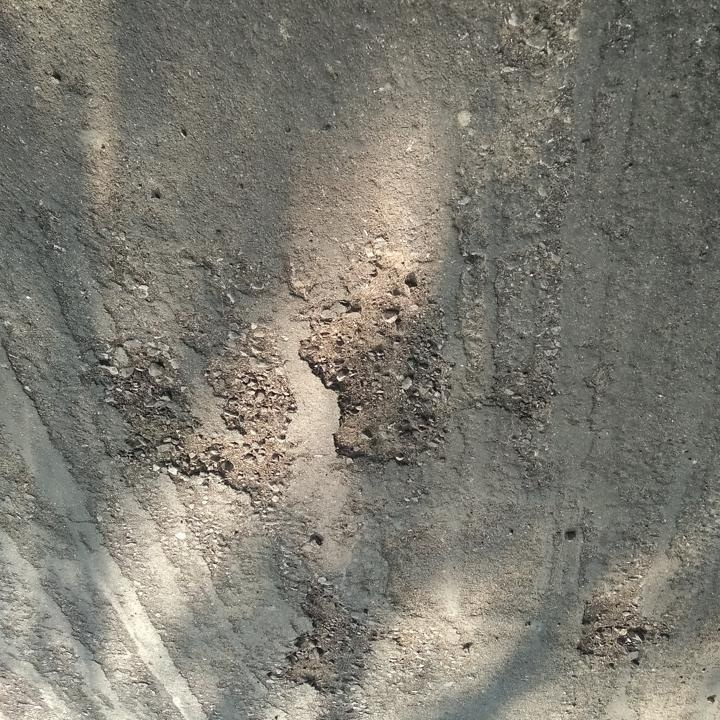pothole: (293, 252, 456, 471), (93, 344, 215, 481), (203, 336, 300, 499), (273, 580, 381, 694), (571, 594, 672, 662)
